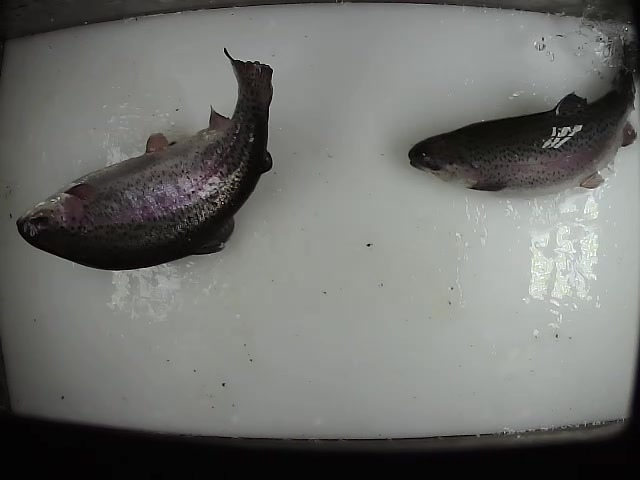fish: (15, 47, 276, 274), (406, 31, 640, 194)
